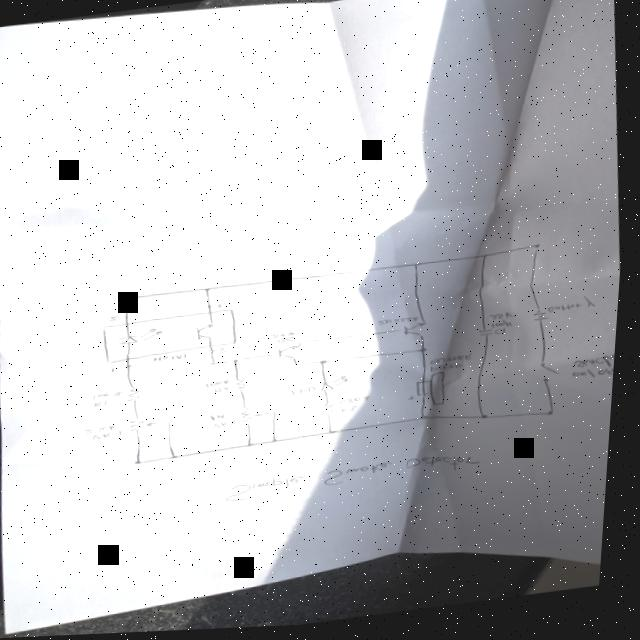capacitor: (481, 332, 500, 343)
diode: (320, 378, 354, 396)
junction: (533, 248, 544, 257), (233, 360, 247, 367), (125, 298, 138, 305), (484, 418, 495, 425), (423, 418, 434, 425), (422, 351, 433, 358), (415, 266, 425, 272), (207, 288, 215, 295), (483, 258, 492, 264), (551, 416, 560, 422), (139, 461, 148, 467), (323, 363, 333, 368), (332, 433, 342, 438), (213, 363, 222, 368), (176, 456, 185, 461), (276, 441, 284, 446), (252, 445, 260, 450), (170, 420, 177, 425), (298, 365, 304, 370), (276, 413, 282, 418), (302, 345, 308, 348)
resistor: (243, 407, 271, 428), (132, 418, 160, 435), (129, 388, 147, 405), (238, 379, 252, 394), (326, 405, 342, 418)
source: (535, 312, 555, 329)
switch: (541, 363, 567, 389)
text: (229, 455, 490, 506), (550, 299, 601, 319), (577, 360, 620, 377), (574, 371, 619, 386), (433, 357, 478, 370), (380, 319, 425, 330), (88, 424, 125, 436), (96, 431, 129, 443), (433, 366, 467, 377), (157, 354, 193, 364), (96, 391, 131, 401), (343, 399, 377, 409), (294, 389, 322, 399), (494, 323, 518, 334), (492, 316, 520, 325), (217, 423, 244, 432), (209, 381, 236, 390), (275, 333, 300, 342), (212, 414, 232, 425), (344, 408, 364, 418), (281, 338, 299, 347), (218, 388, 237, 396), (98, 401, 113, 408), (498, 333, 511, 340), (113, 367, 122, 376), (220, 349, 230, 357), (112, 316, 122, 323), (219, 304, 227, 312)
transistor: (401, 325, 434, 345), (278, 347, 307, 365)
